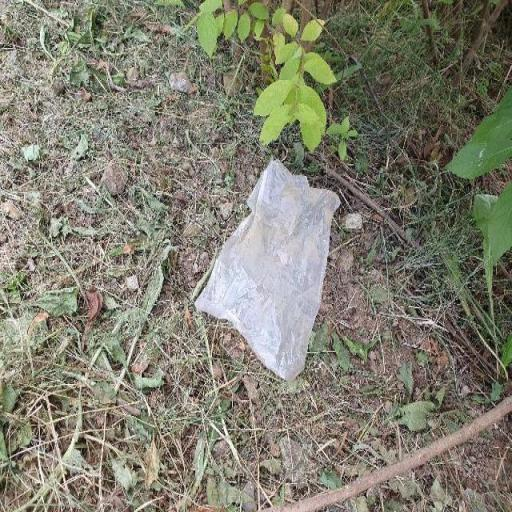plastic-bag: (190, 152, 339, 384)
